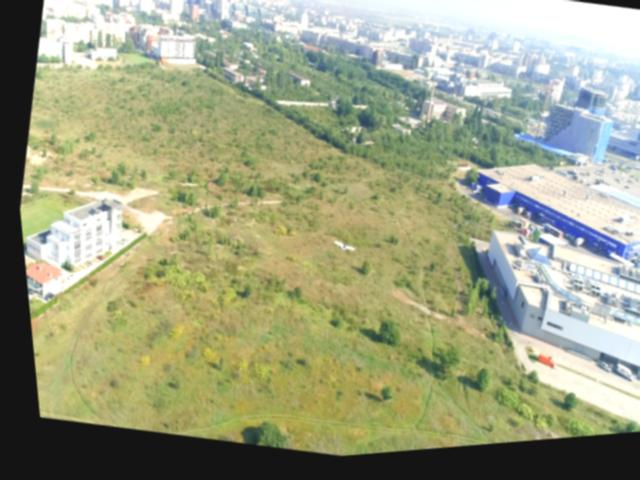plane: (324, 242, 352, 264)
